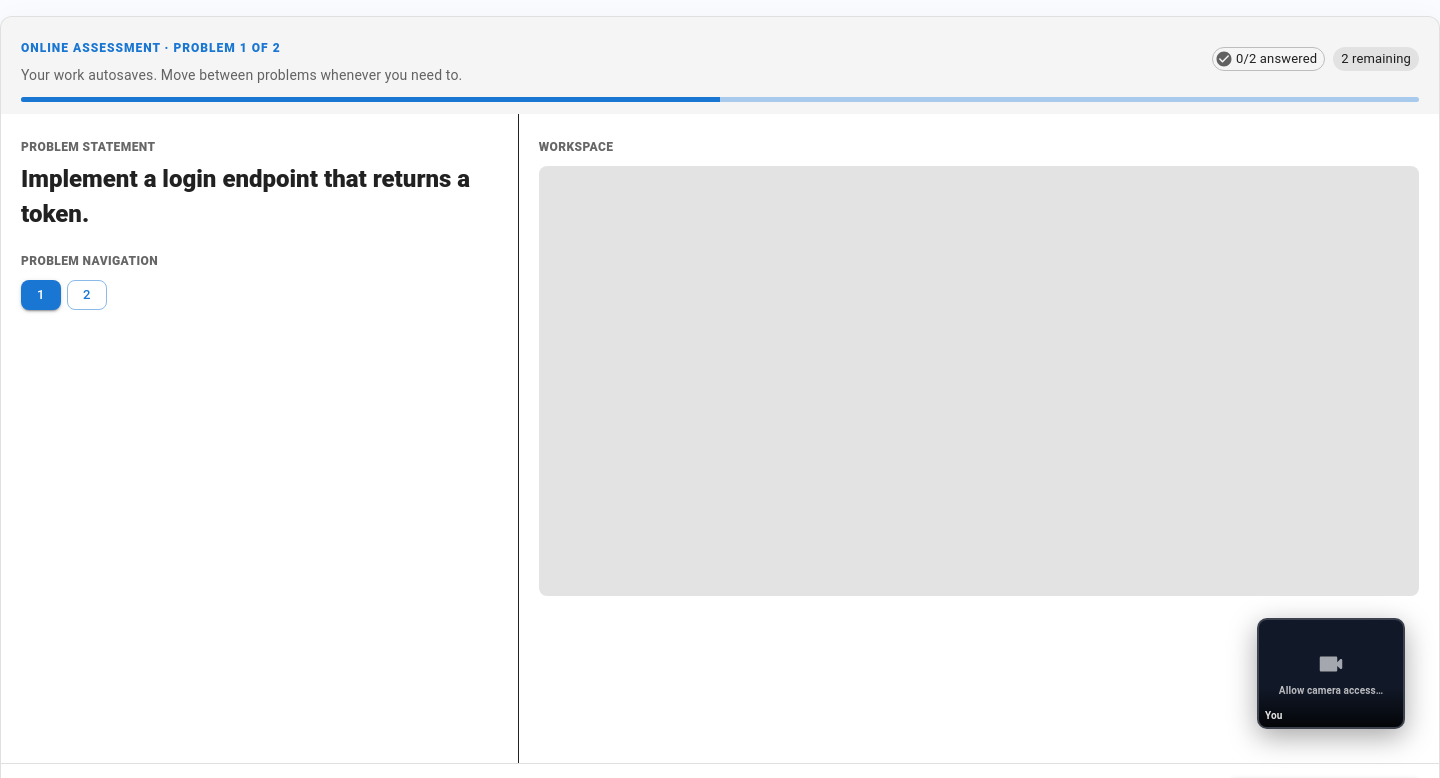
OAForm reload position › reopens the problem the candidate was on after a reload
Step 1. Click the button named "go to question 2" → (87, 295), box [67,280,107,310]
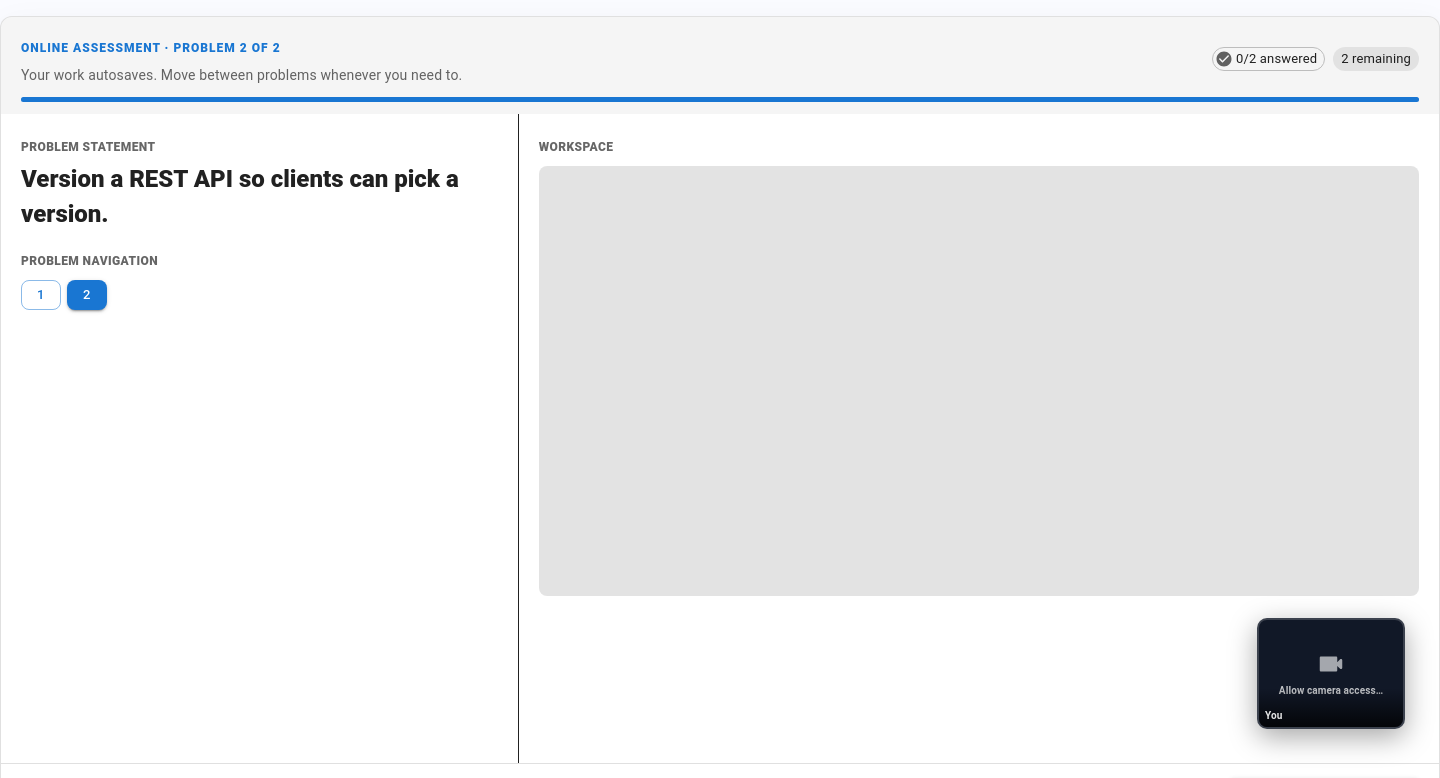
Check: the text "Online assessment · Problem 2 of 2" is shown, box [21,41,281,55]
